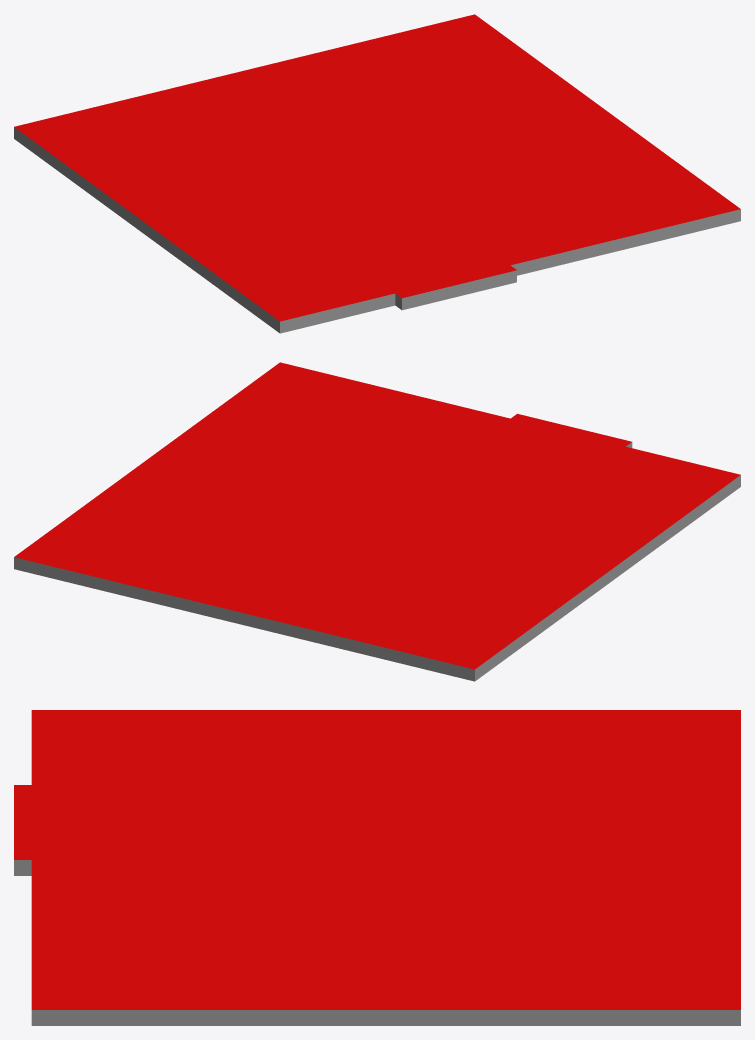
Rendered from StudyFloor.fbx.
3 views of the same model, one above another, from view 1: azimuth 30°, elevation 25°; view 2: azimuth 150°, elevation 25°; view 3: azimuth 270°, elevation 25° (orthographic). The views are drawn at different scales.
Parts seen in each view (by area): view 1: pCube74; view 2: pCube74; view 3: pCube74.
Part boxes in pixels (x1,y1,x2,y2): pCube74: [14, 14, 740, 333]; pCube74: [14, 362, 740, 681]; pCube74: [14, 710, 740, 1025].
Size of the model in its own units: 400 by 10 by 410.
